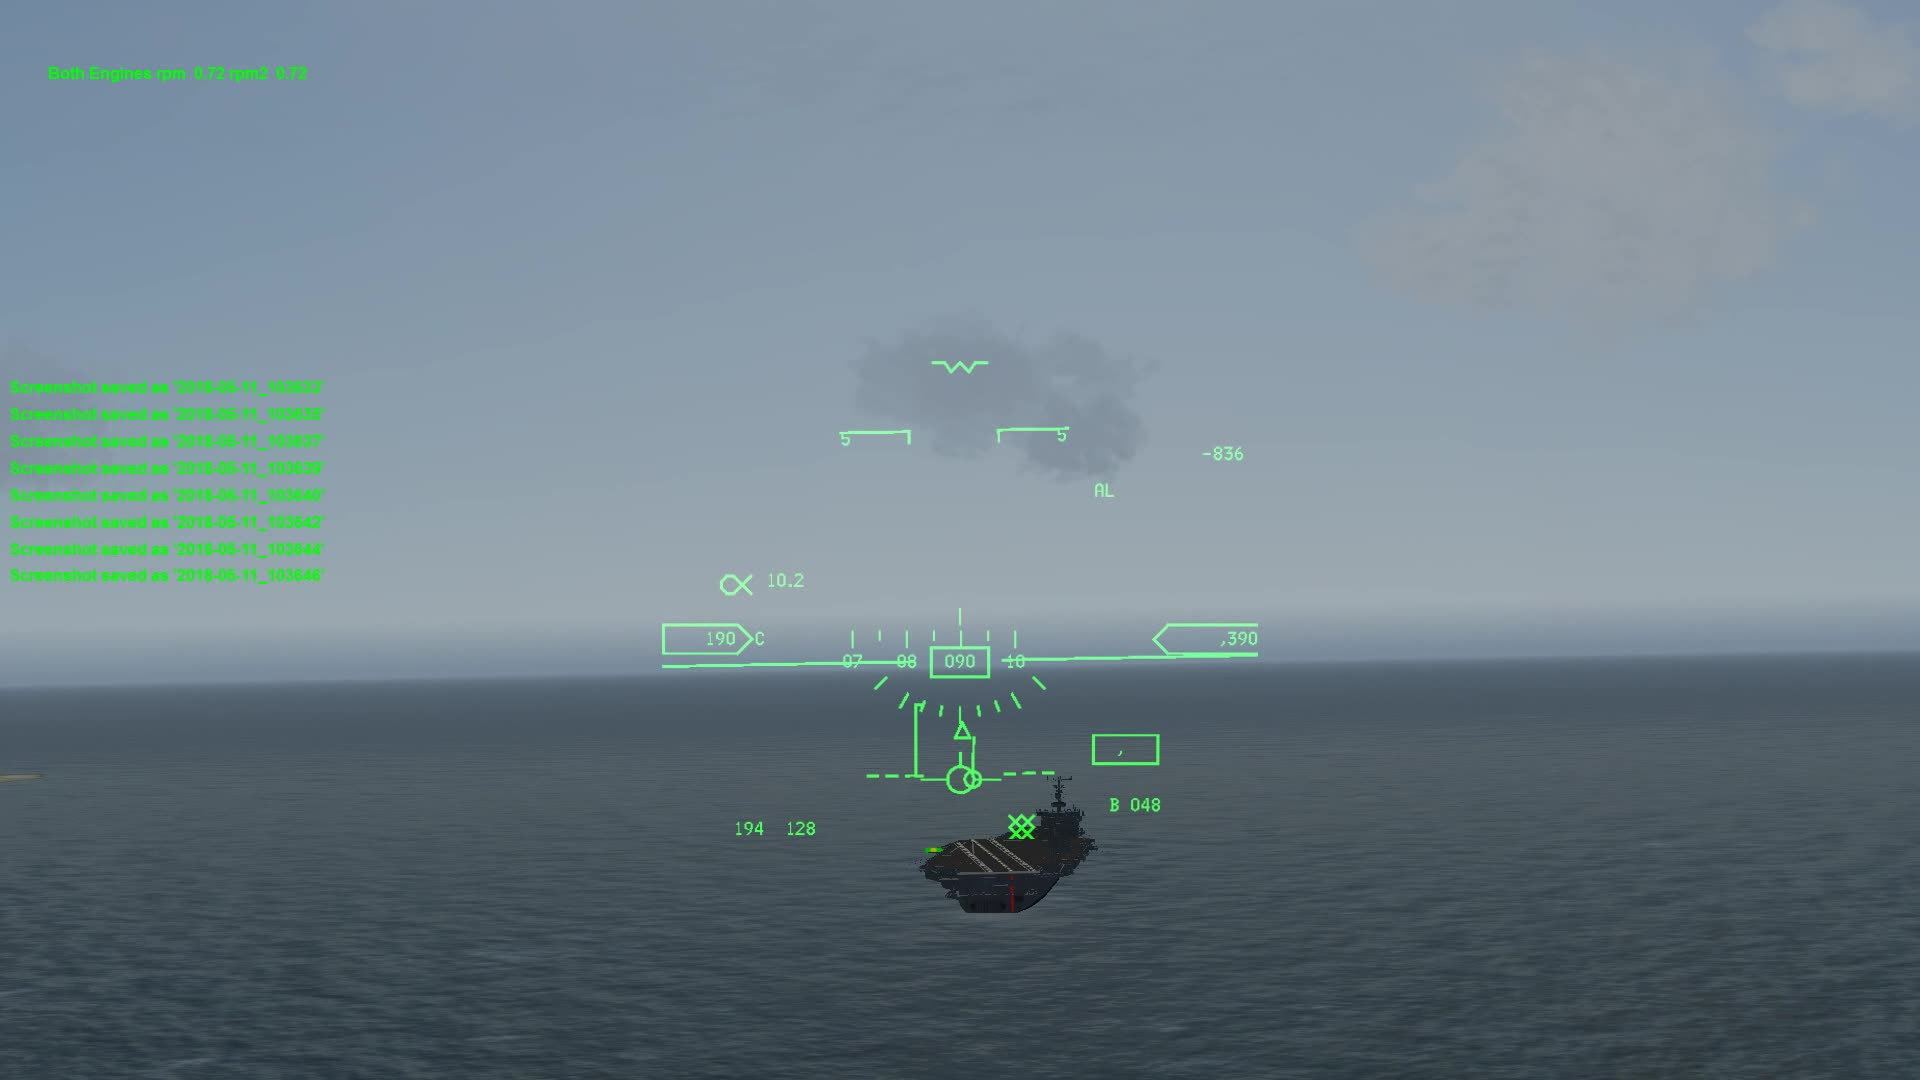speed vector: (924, 748, 998, 800)
